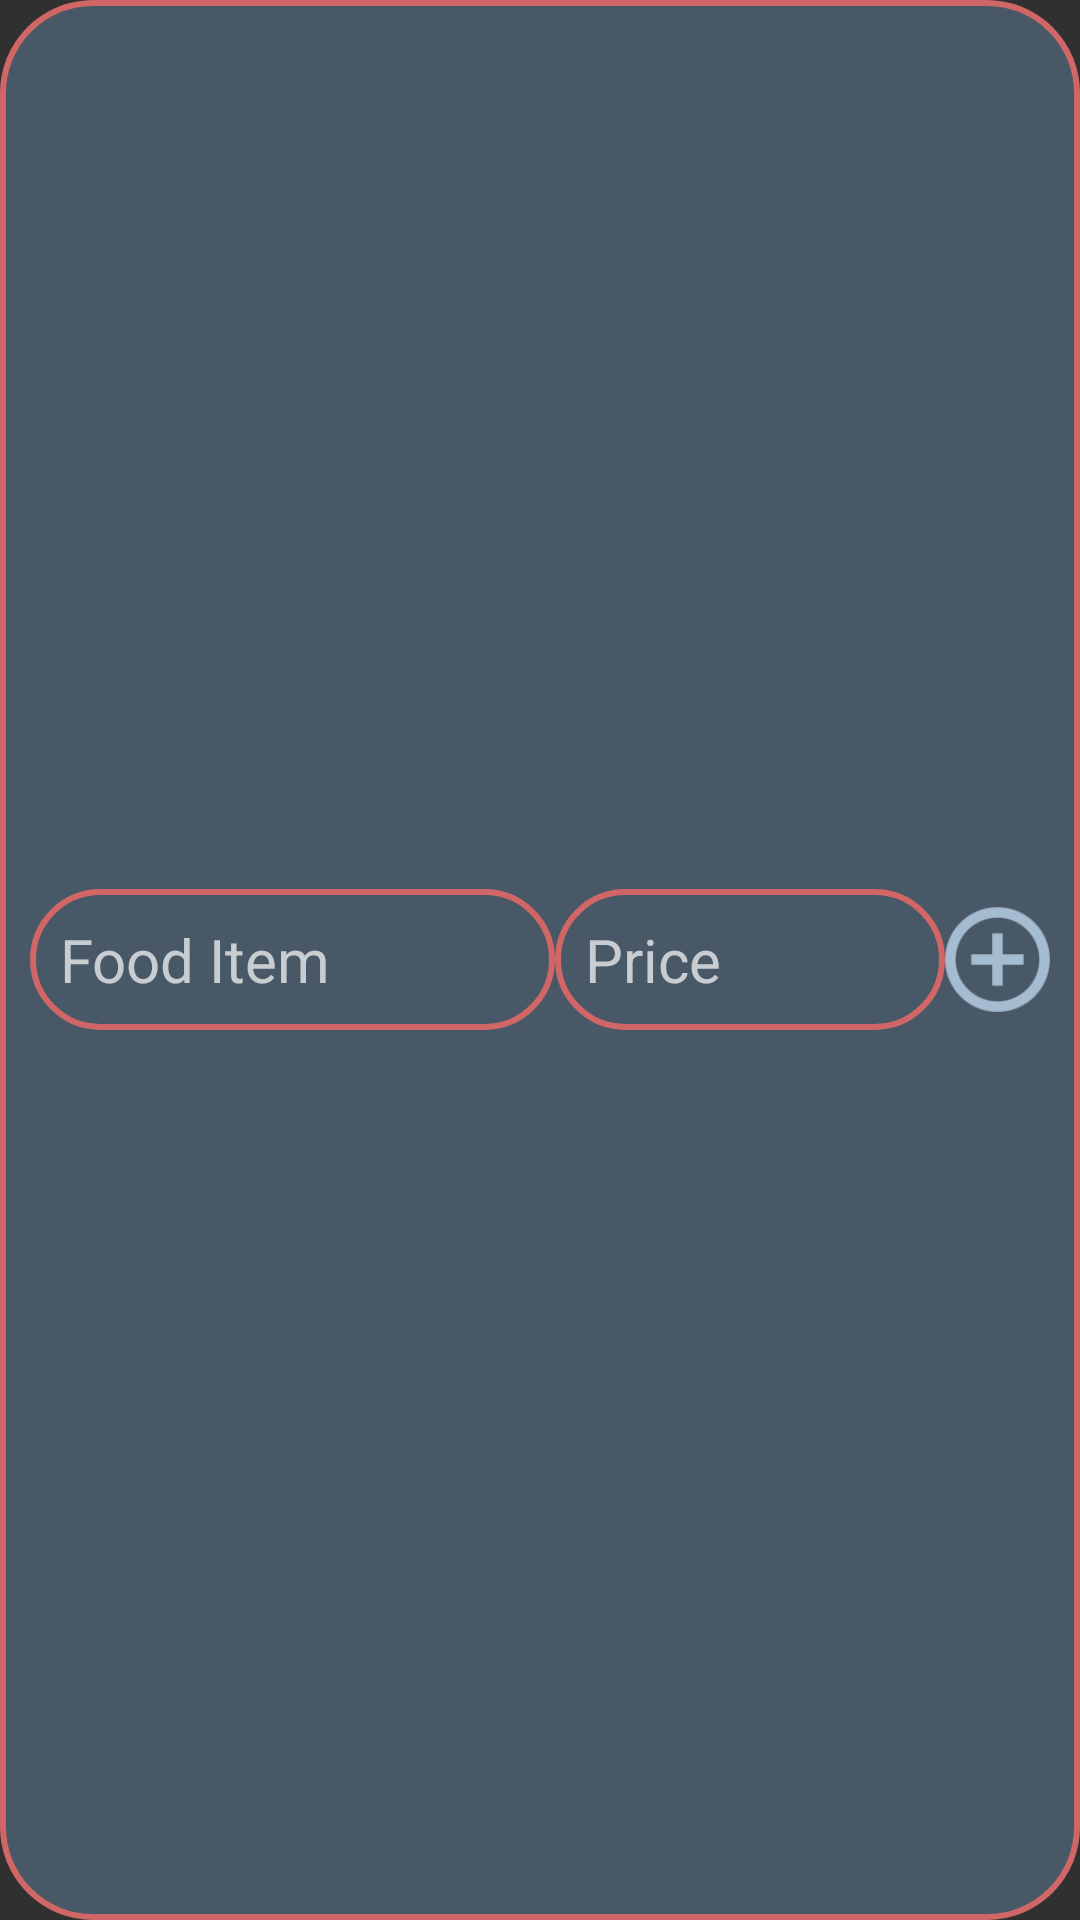

Icon click points for this 1080×1920 phone screenshot, format point (x, y):
plusmark: point (997, 959)
